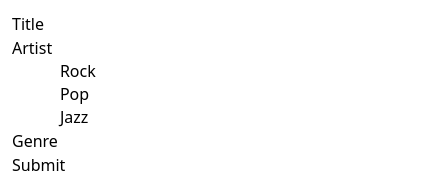
Scenario: TrackForm validation › ошибки исчезают после заполнения и сабмита
Click the button with test id "submit-button". click: x=39, y=165
box: top-left (12, 153), bottom-right (65, 177)
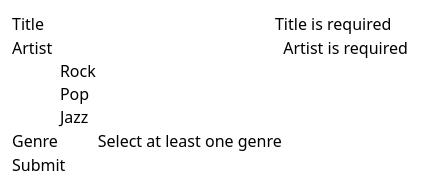
Type "Test Track" into the field with test id "input-title". click: x=160, y=24
box: top-left (44, 12), bottom-right (275, 36)
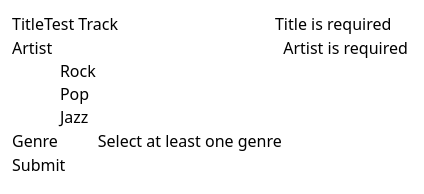
Type "Test Artist" into the field with test id "input-artist". click: x=168, y=48
box: top-left (52, 36), bottom-right (283, 60)
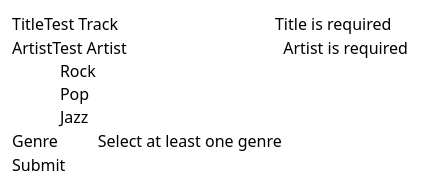
Select "Rock" in the dropdown with test id "genre-selector". click: x=78, y=106
box: top-left (58, 60), bottom-right (98, 152)
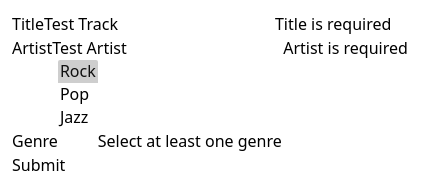
Click the button with test id "submit-button". click: x=39, y=165
box: top-left (12, 153), bottom-right (65, 177)
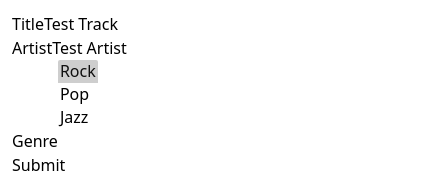
Result: the text with test id "error-title" is gone
Result: the text with test id "error-artist" is gone
Result: the text with test id "error-genre" is gone
